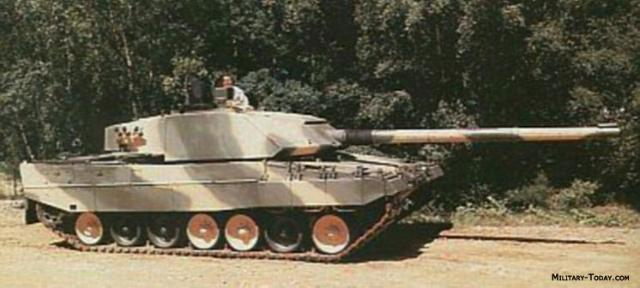other: (218, 72, 250, 102)
tank: (20, 104, 442, 243)
